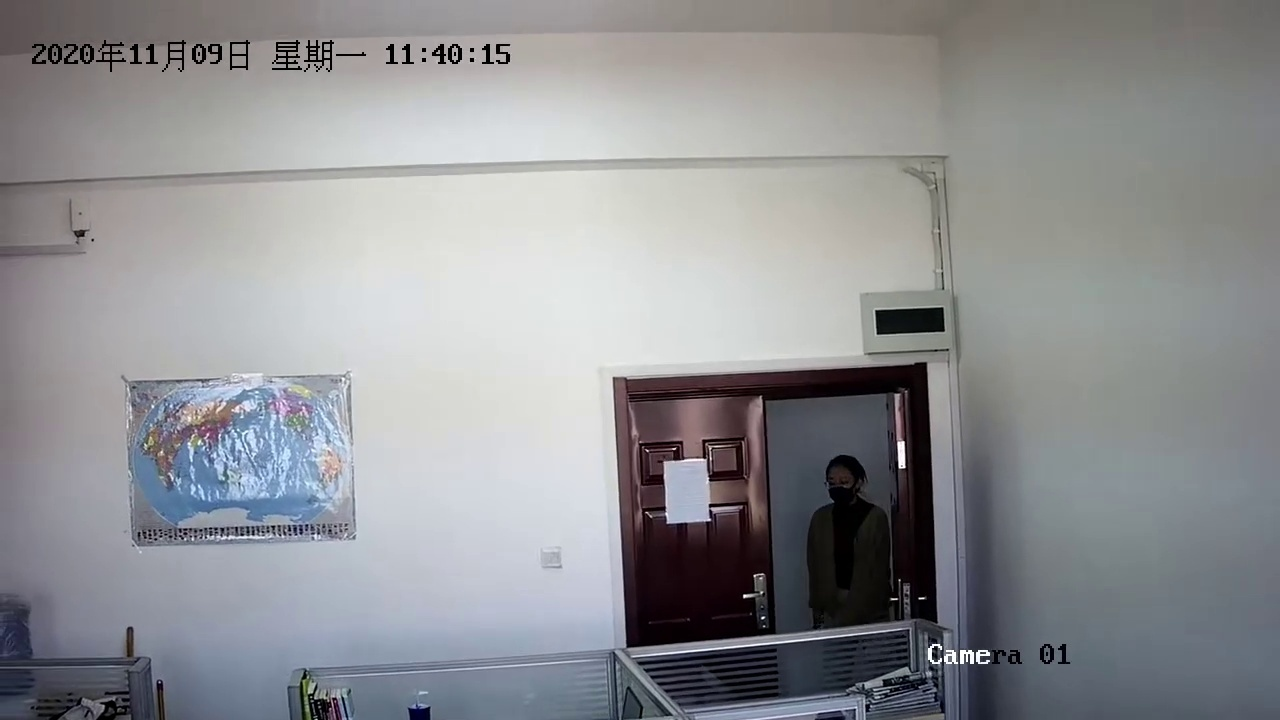mask: (821, 456, 866, 504)
